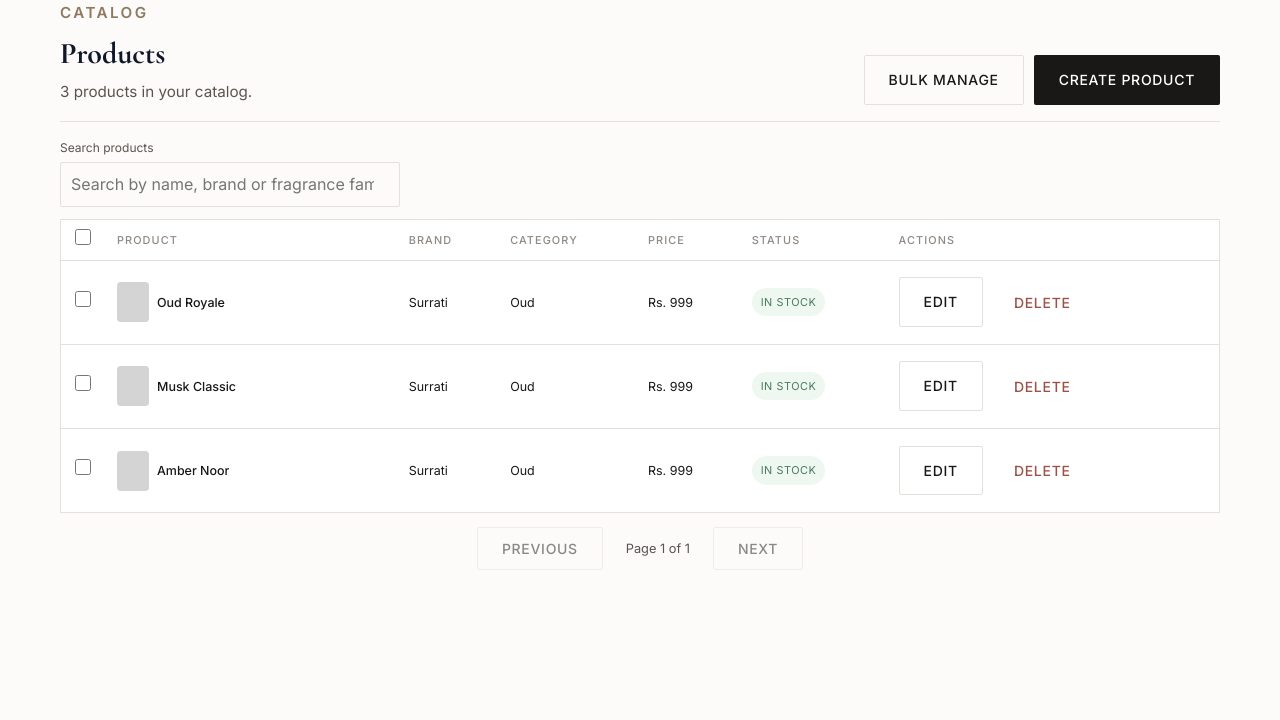
Test: Products admin page — bulk delete confirmation › handles a partial miss reported by the backend
Expected: the text "Oud Royale" is shown, [157,292,225,313]
Click the checkbox named "Select Oud Royale" at (83, 299), box [75,291,91,307]
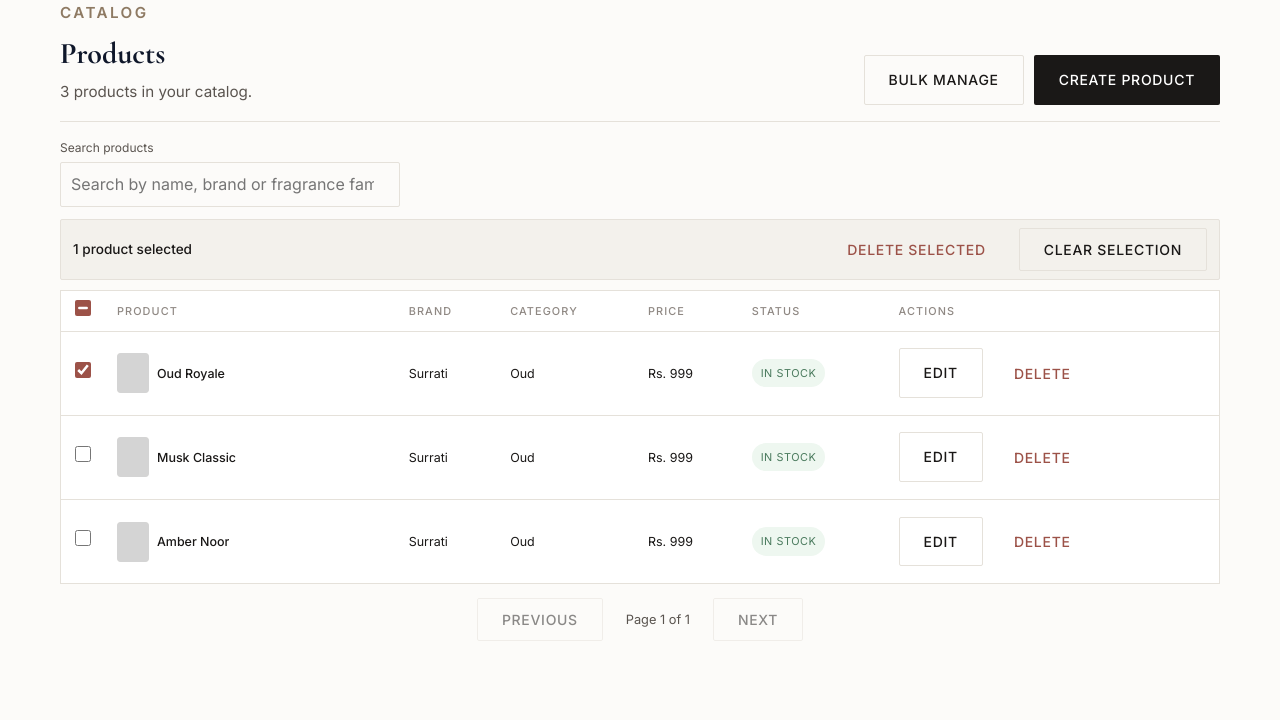
Click the checkbox named "Select Amber Noor" at (83, 538), box [75,530,91,546]
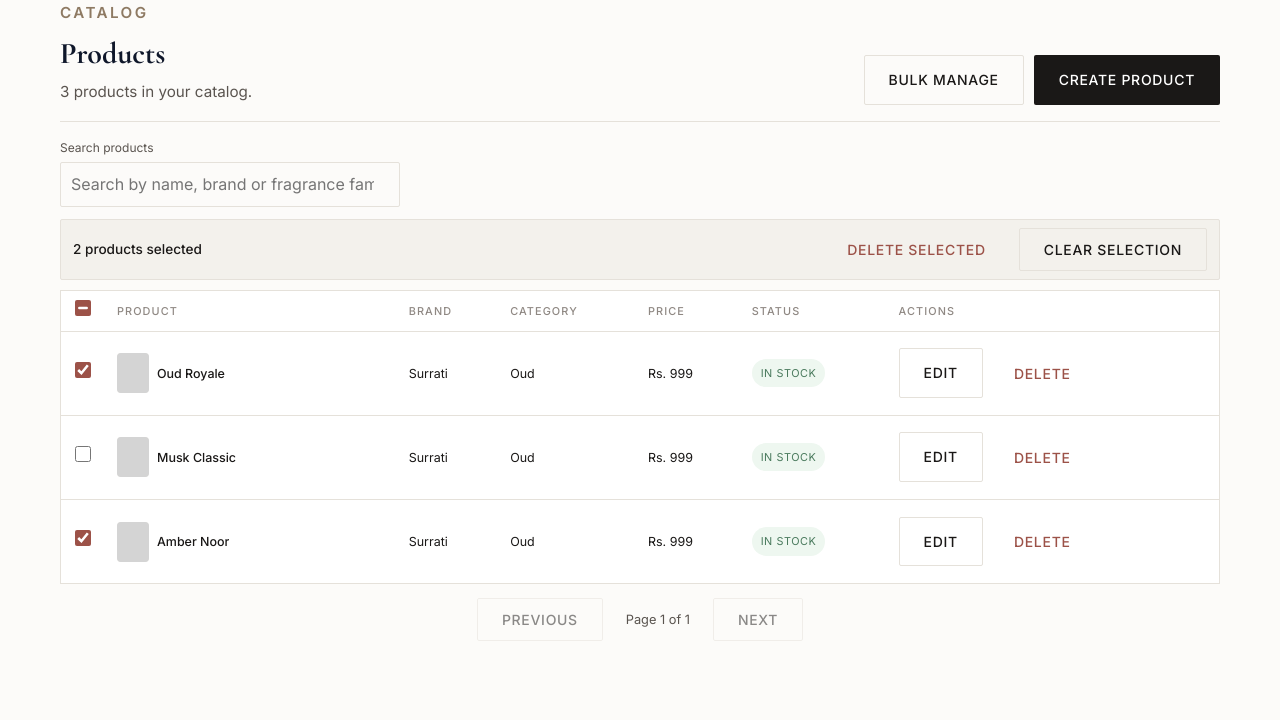
Click the button "Delete Selected" at (916, 250), box [822,228,1011,271]
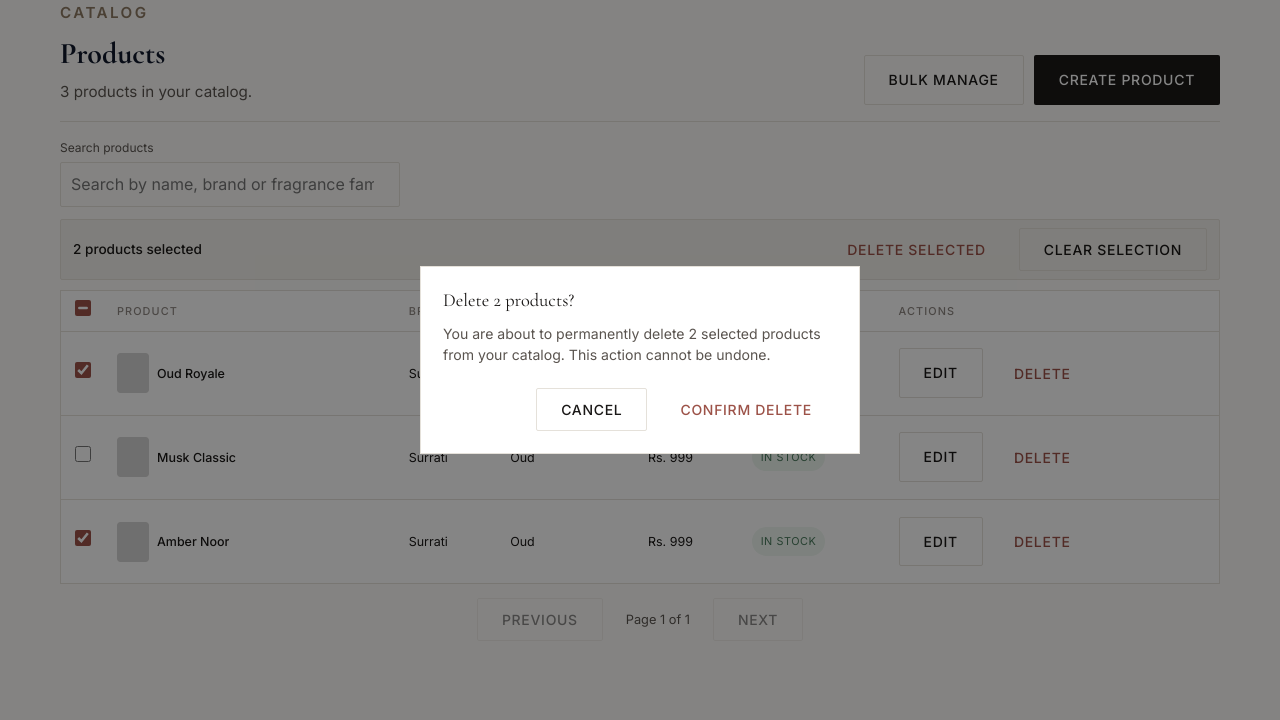
Click the button "Confirm Delete" at (746, 410), box [656,388,837,431]
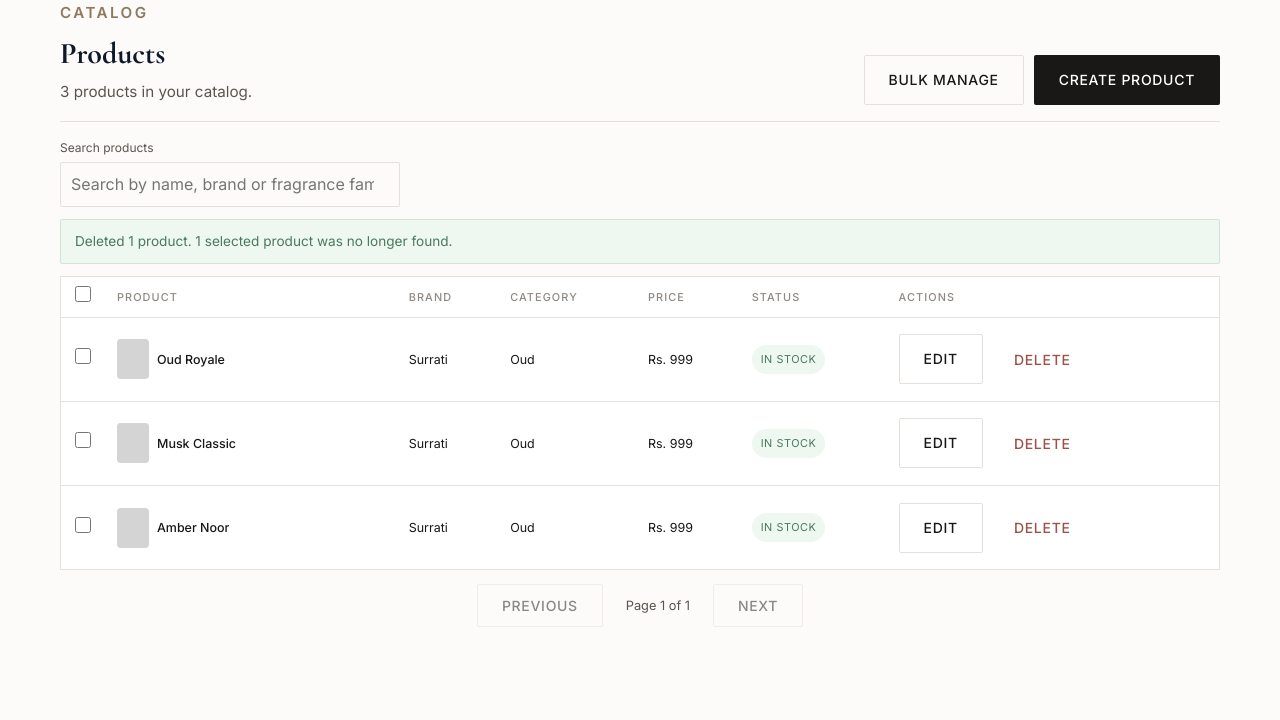
Now the text "Deleted 1 product. 1 selected product was no longer found." is shown, box [60,219,1220,264]
